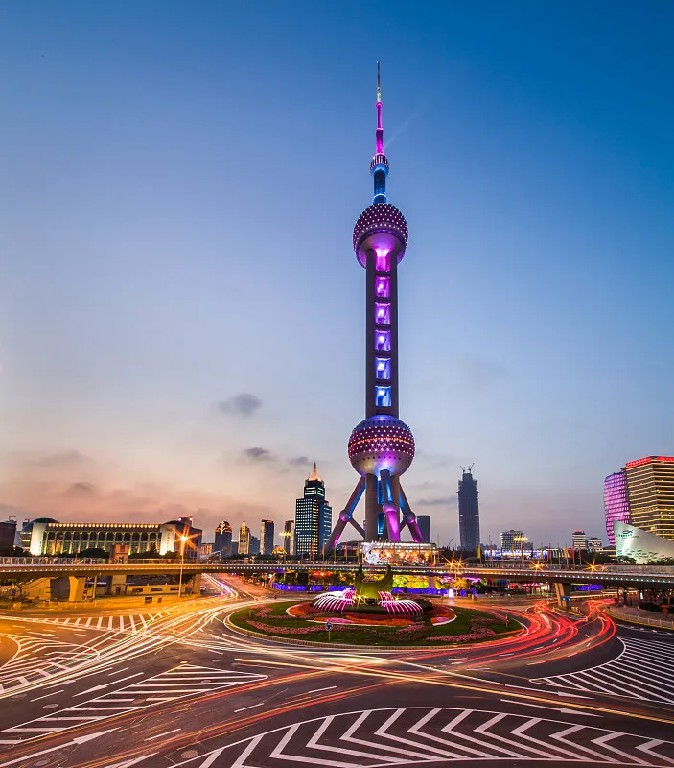Oriental: (325, 62, 426, 544)
